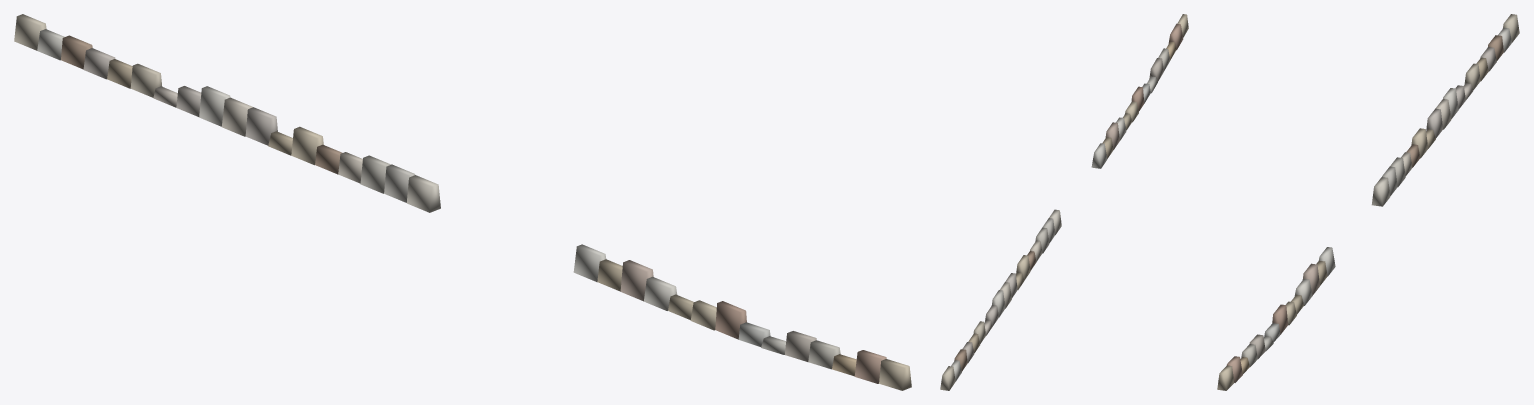
File: farm_-26_-32_collision.glb
The picture shows the model from 3 angles, left to right: view 1: azimuth 30°, elevation 25°; view 2: azimuth 150°, elevation 25°; view 3: azimuth 330°, elevation 25°; orthographic projection. The views are drawn at different scales.
Visible parts, largest first — view 1: geometry_0; view 2: geometry_0; view 3: geometry_0.
Part boxes in pixels (left/top/right/bottom): geometry_0: left=14, top=14, right=911, bottom=390; geometry_0: left=940, top=14, right=1188, bottom=390; geometry_0: left=1217, top=14, right=1519, bottom=390.
Bounding box in the file's own units: 14.04 × 3.92 × 59.02.
